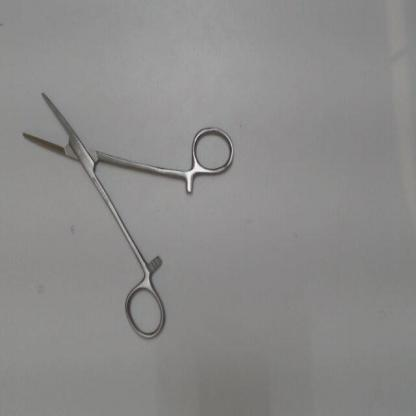Mayo Needle Holder: (13, 81, 239, 349)
